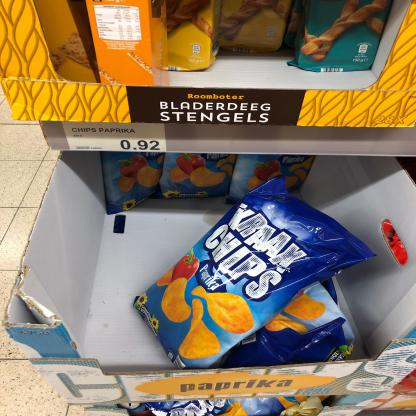prtg: (62, 122, 168, 153)
